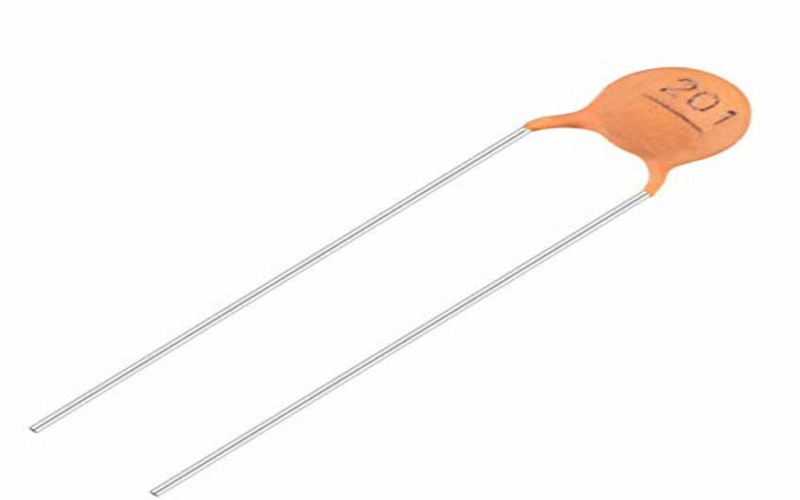Capacitor: (27, 57, 775, 500)
